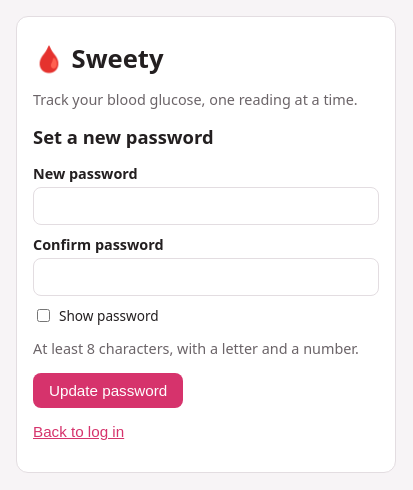
reset link in the URL opens the new-password form and submits the token
Expected: the heading "Set a new password" is shown, top-left (33, 124), bottom-right (214, 149)
Type "newpassword9" into the password field labelled "New password". click: (206, 206)
box: top-left (33, 187), bottom-right (379, 225)
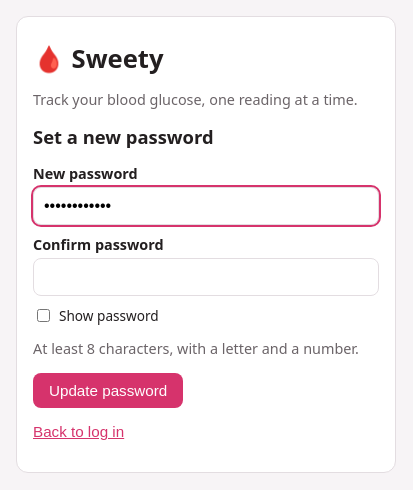
Type "newpassword9" into the password field labelled "Confirm password". click: (206, 277)
box: top-left (33, 258), bottom-right (379, 296)
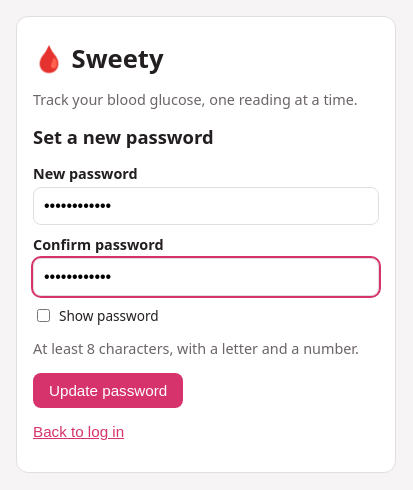
Click the button "Update password". click: (108, 390)
box: top-left (33, 373), bottom-right (183, 408)
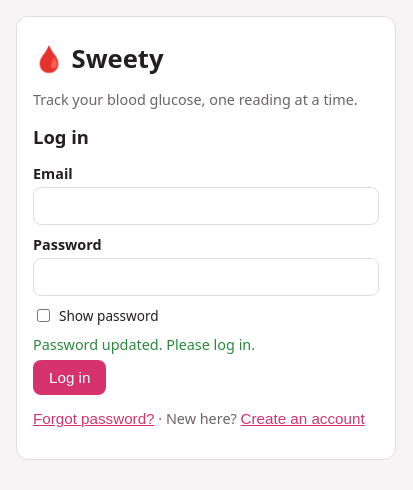
Expected: the text "Password updated. Please log in." is shown, top-left (33, 335), bottom-right (255, 354)
